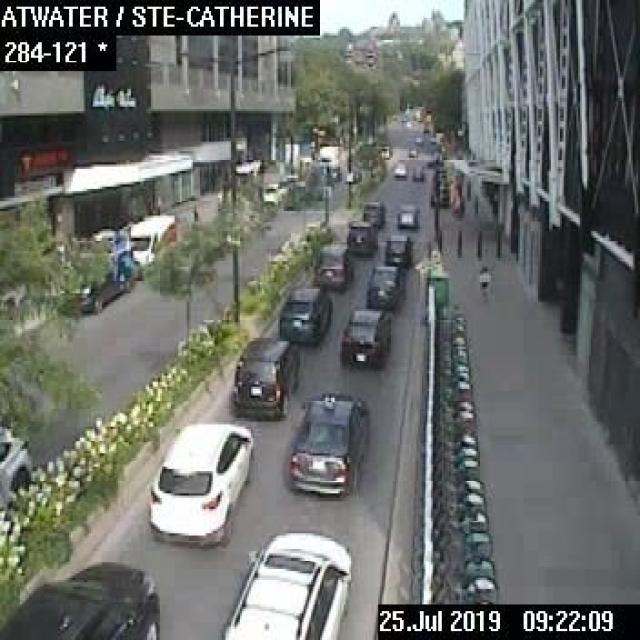pedestrian: (477, 264, 489, 297)
vehicle: (218, 526, 355, 638), (143, 418, 254, 546), (0, 556, 160, 638), (286, 389, 366, 498), (57, 230, 127, 312), (229, 336, 299, 416), (336, 305, 389, 369), (276, 286, 331, 342), (126, 212, 172, 278), (0, 425, 35, 491), (313, 242, 352, 290), (364, 265, 403, 307), (345, 221, 376, 254), (383, 233, 411, 265), (361, 199, 383, 226), (317, 144, 341, 168), (394, 206, 416, 227), (262, 182, 280, 202), (392, 161, 407, 177), (378, 143, 390, 158), (411, 166, 423, 179), (406, 146, 416, 156), (414, 135, 421, 143)
